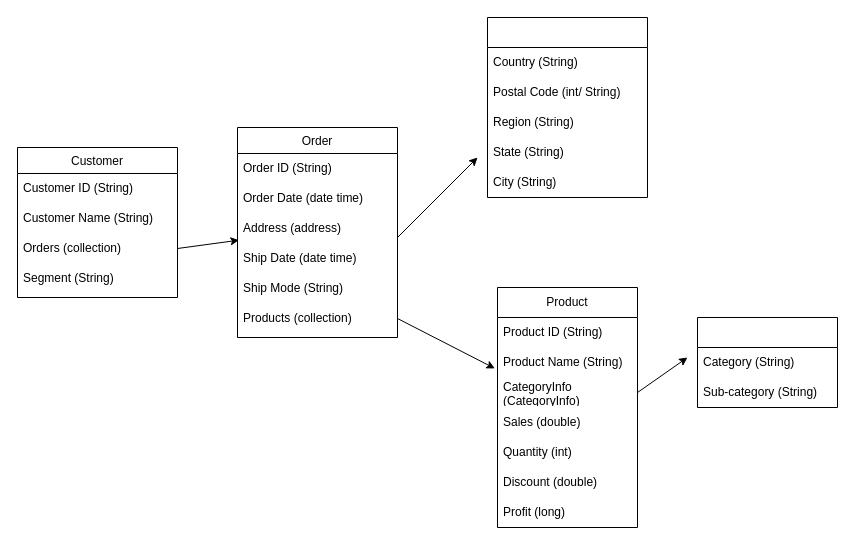
The diagram is 855 pixels wide and 545 high, and some of its shapes have lost their labels. Here are the shapes that lost their labels. From the top down, the box of each, then its label:
(486, 16, 648, 198): address
(696, 316, 838, 408): CategoryInfo
